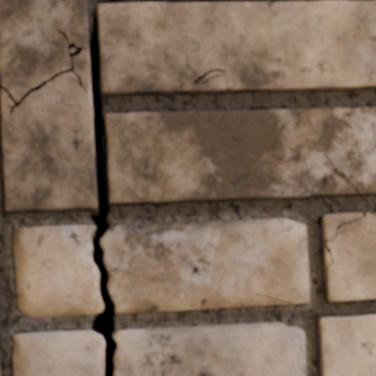brick: (99, 1, 375, 95), (107, 108, 375, 204), (2, 49, 96, 212), (0, 0, 88, 100), (324, 214, 375, 301), (318, 316, 375, 375), (322, 213, 362, 245), (0, 361, 1, 375)
broken_brick: (102, 218, 310, 315), (115, 322, 307, 375), (14, 224, 101, 317), (12, 329, 104, 375)
crack: (0, 0, 373, 375), (324, 211, 375, 272), (311, 139, 359, 195), (254, 292, 291, 304)
